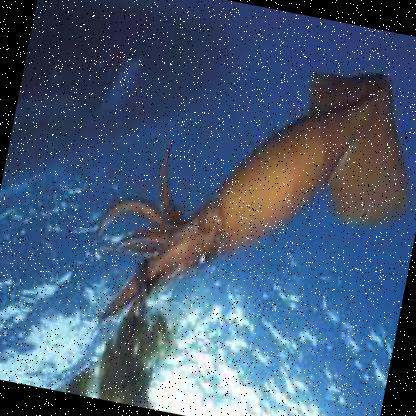colossal_squid: (80, 12, 415, 361)
